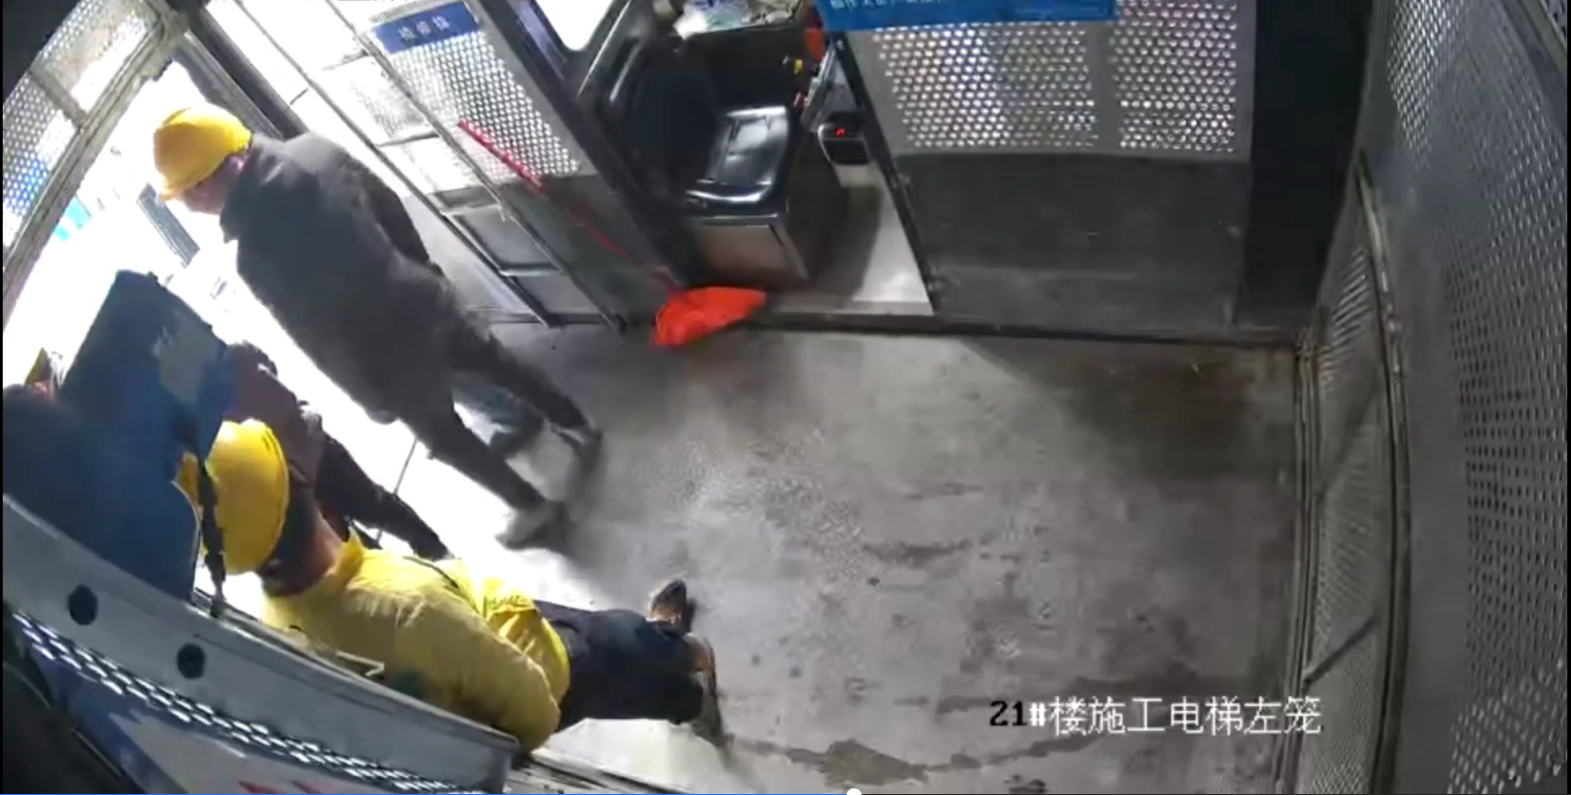person: (145, 102, 600, 550), (171, 415, 728, 763), (187, 333, 448, 564)
